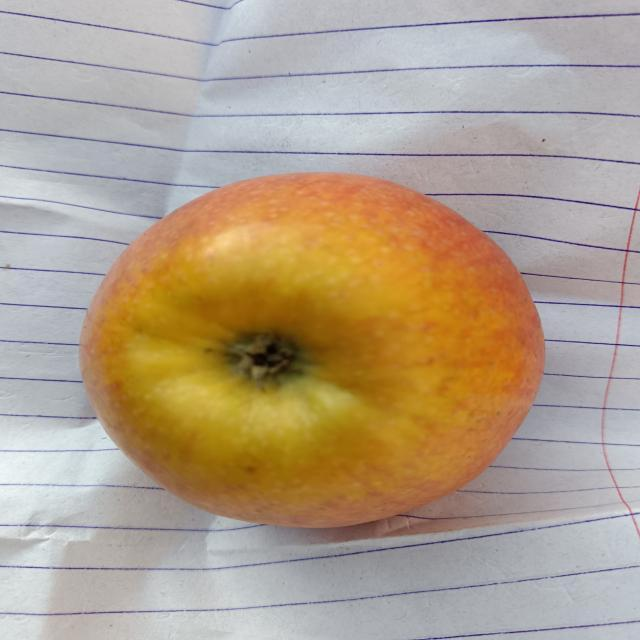Fresh Apple: (77, 165, 547, 535)
